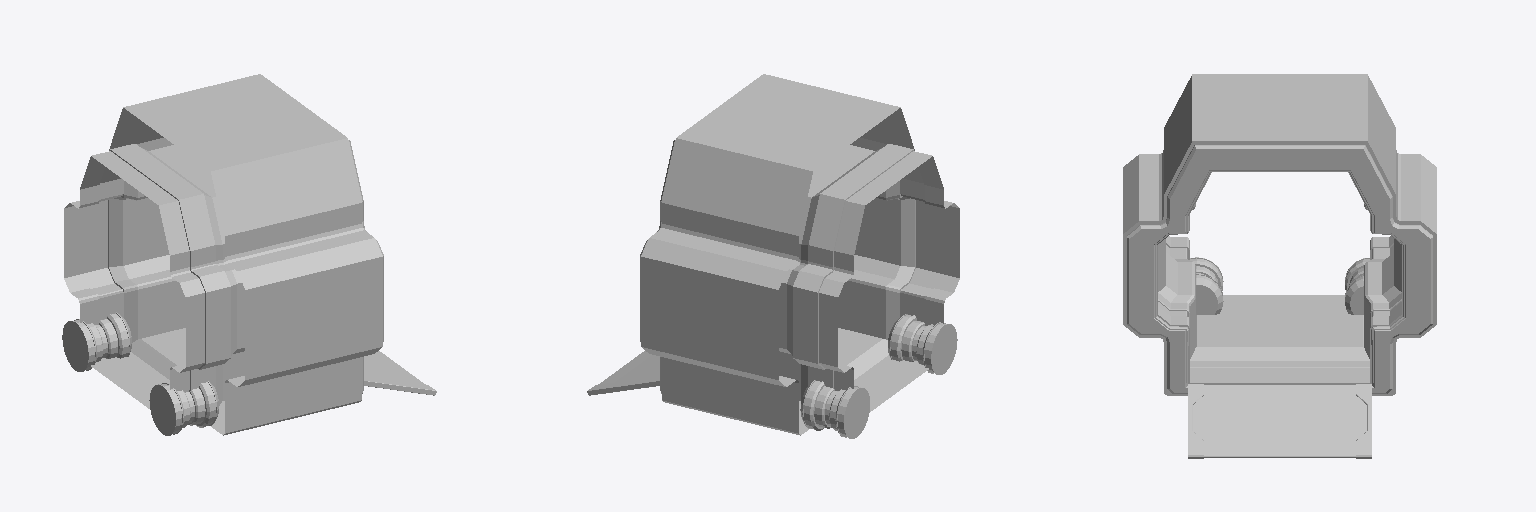
The model's file is door frame.obj.
The picture shows the model from 3 angles: view 1: azimuth 30°, elevation 25°; view 2: azimuth 150°, elevation 25°; view 3: azimuth 270°, elevation 25°; orthographic projection.
Visible parts, largest first — view 1: doorgroup35door_frame entraance, entraance doorgroup35door_frame1, entraance door_rampdoorgroup35; view 2: doorgroup35door_frame entraance, entraance doorgroup35door_frame1, entraance door_rampdoorgroup35; view 3: doorgroup35door_frame entraance, entraance door_rampdoorgroup35, entraance doorgroup35door_frame1.
Part boxes in pixels (left/top/right/bottom): doorgroup35door_frame entraance: left=64, top=74, right=383, bottom=435; entraance doorgroup35door_frame1: left=62, top=312, right=131, bottom=371; entraance door_rampdoorgroup35: left=364, top=351, right=436, bottom=395; doorgroup35door_frame entraance: left=640, top=74, right=959, bottom=435; entraance doorgroup35door_frame1: left=800, top=380, right=869, bottom=438; entraance door_rampdoorgroup35: left=587, top=351, right=659, bottom=395; doorgroup35door_frame entraance: left=1123, top=74, right=1436, bottom=395; entraance door_rampdoorgroup35: left=1188, top=384, right=1371, bottom=458; entraance doorgroup35door_frame1: left=1345, top=258, right=1369, bottom=314.
Bounding box in the file's own units: 16.84 × 16.52 × 16.99.